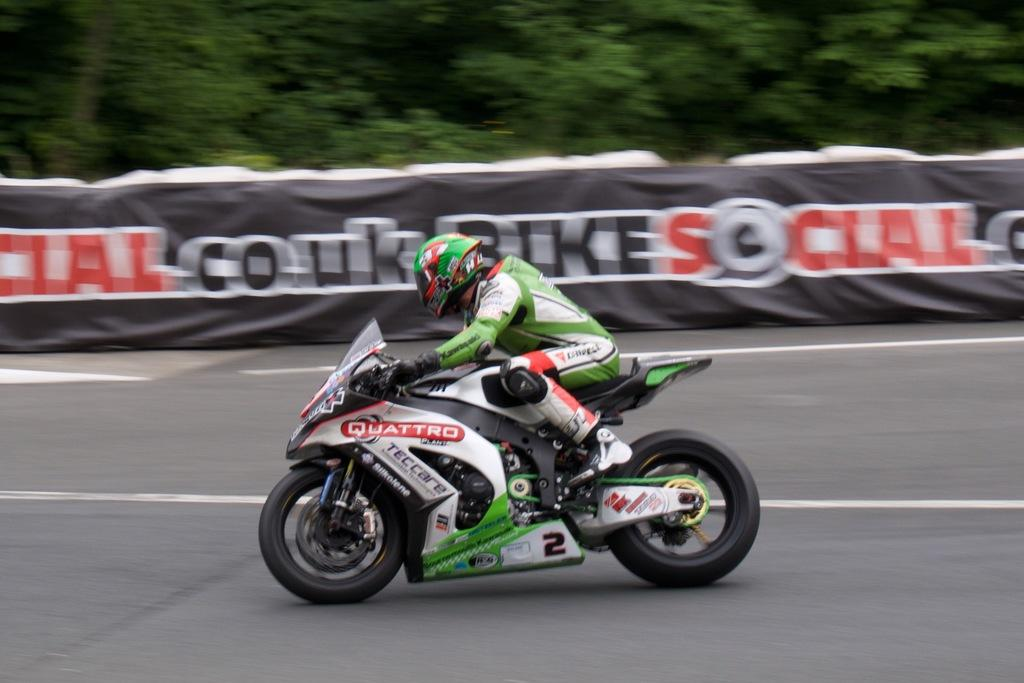helmet: (413, 232, 485, 320)
